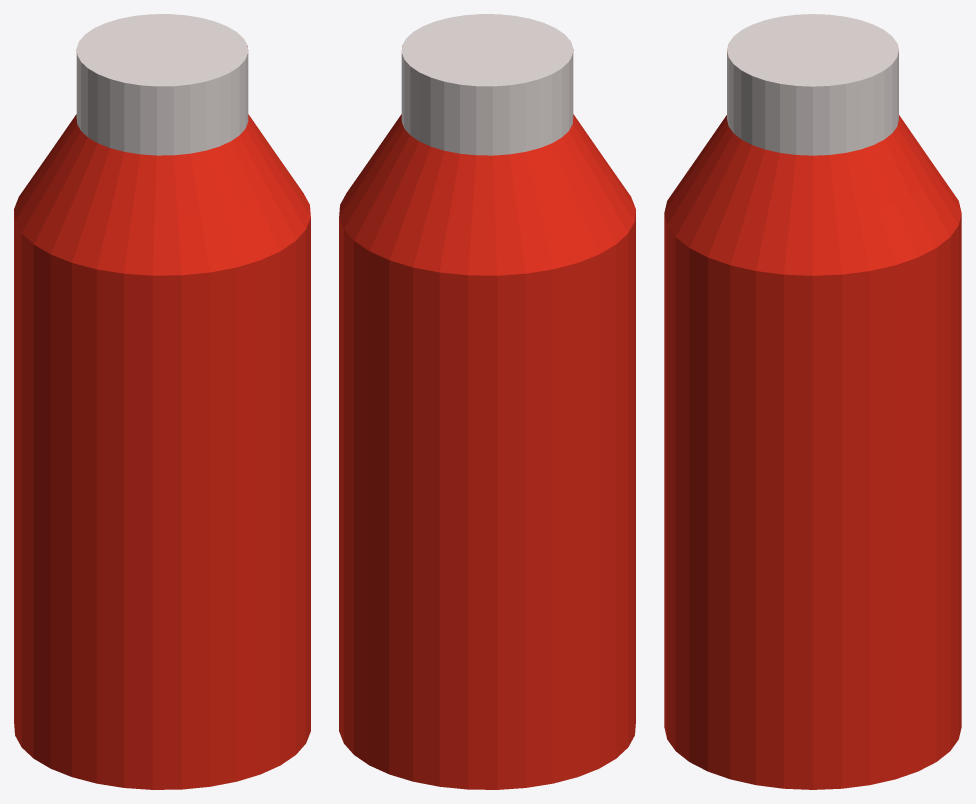
Rendered from Bottle.fbx.
3 views of the same model, side by side, from view 1: azimuth 30°, elevation 25°; view 2: azimuth 150°, elevation 25°; view 3: azimuth 270°, elevation 25° (orthographic).
Parts seen in each view (by area): view 1: Cylinder; view 2: Cylinder; view 3: Cylinder.
Boxes of the visible parts, x1=… form: Cylinder: x1=14, y1=14, x2=310, y2=789; Cylinder: x1=339, y1=14, x2=635, y2=789; Cylinder: x1=664, y1=14, x2=961, y2=789.
Size of the model in its own units: 8.02 by 20.13 by 8.02.
